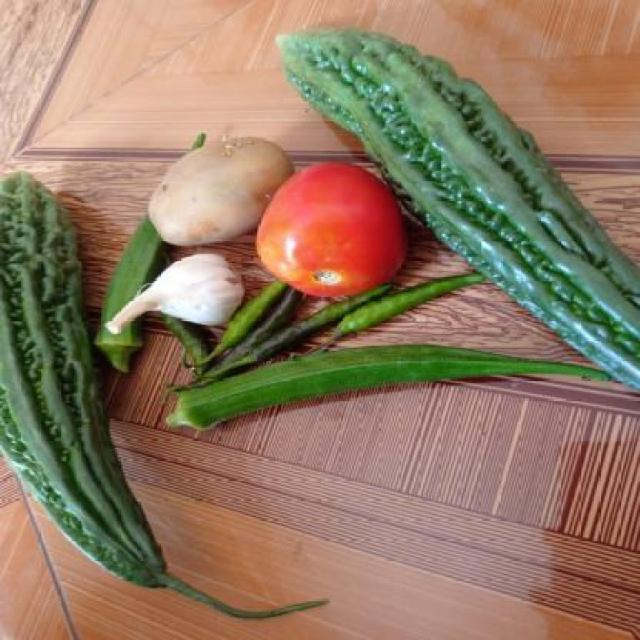Bitter melon: (0, 164, 158, 612), (344, 50, 640, 247)
Garlic: (129, 250, 246, 336)
Green Chili: (297, 274, 491, 331)
Lady finger: (167, 341, 596, 434)
Potato: (138, 134, 294, 251)
Tomato: (254, 163, 408, 294)
